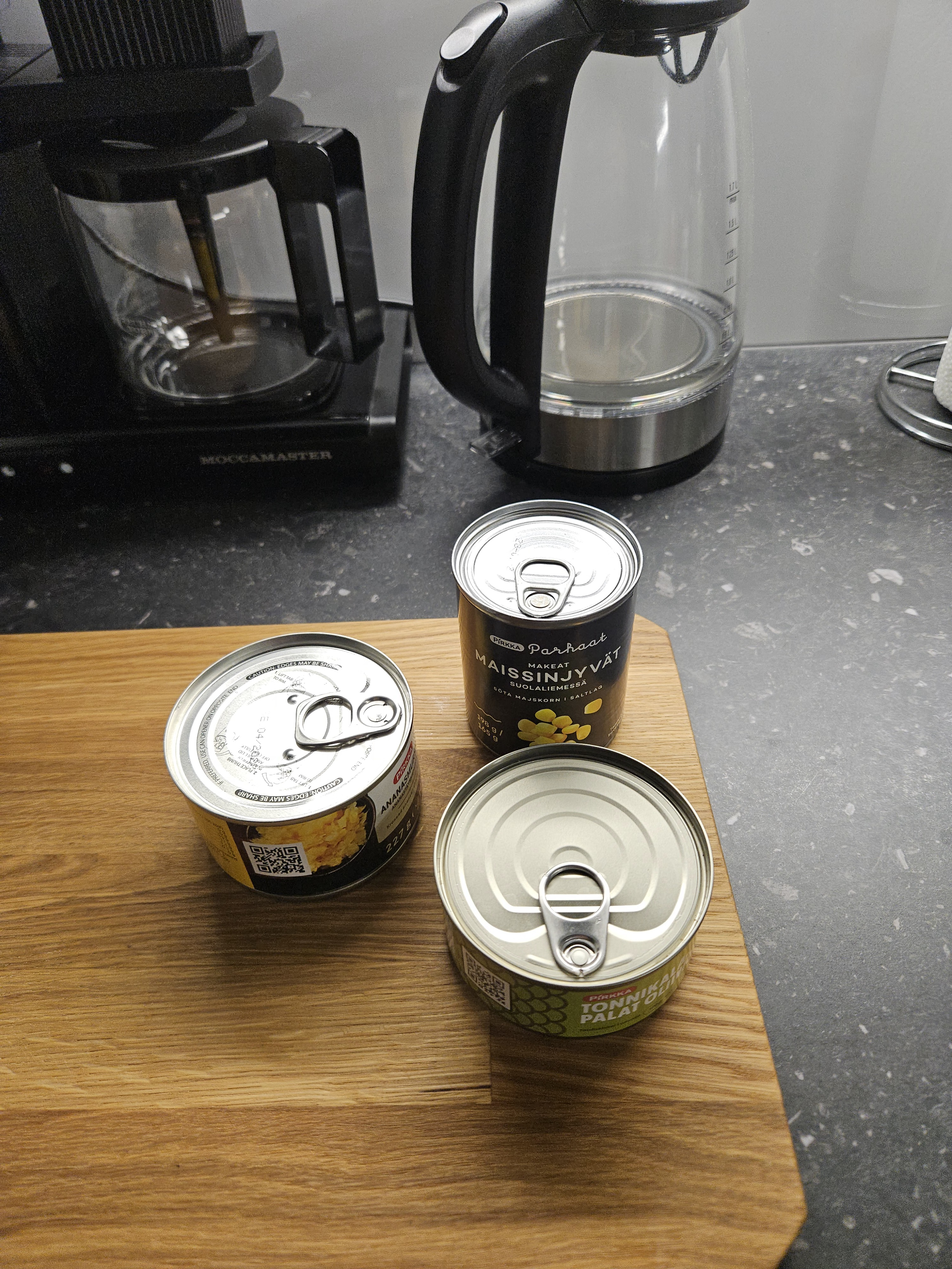Konservburk: (427, 741, 719, 1036), (162, 633, 425, 900), (436, 497, 647, 762)
